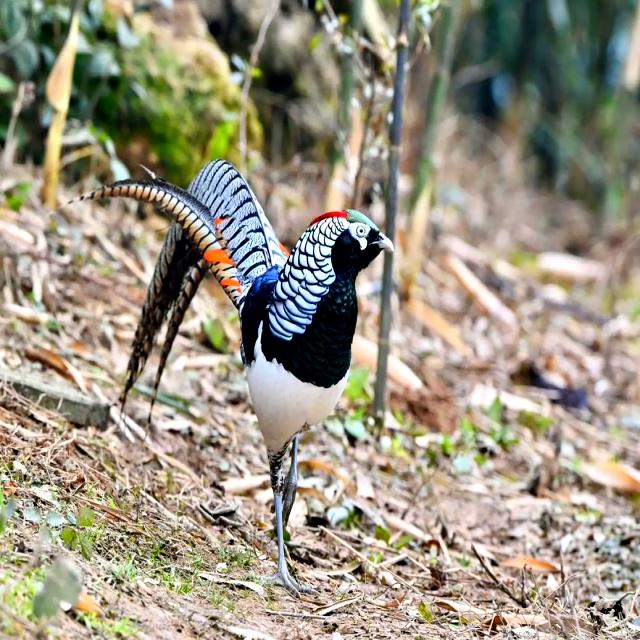Chrysolophus amherstiae: (80, 159, 289, 413)
